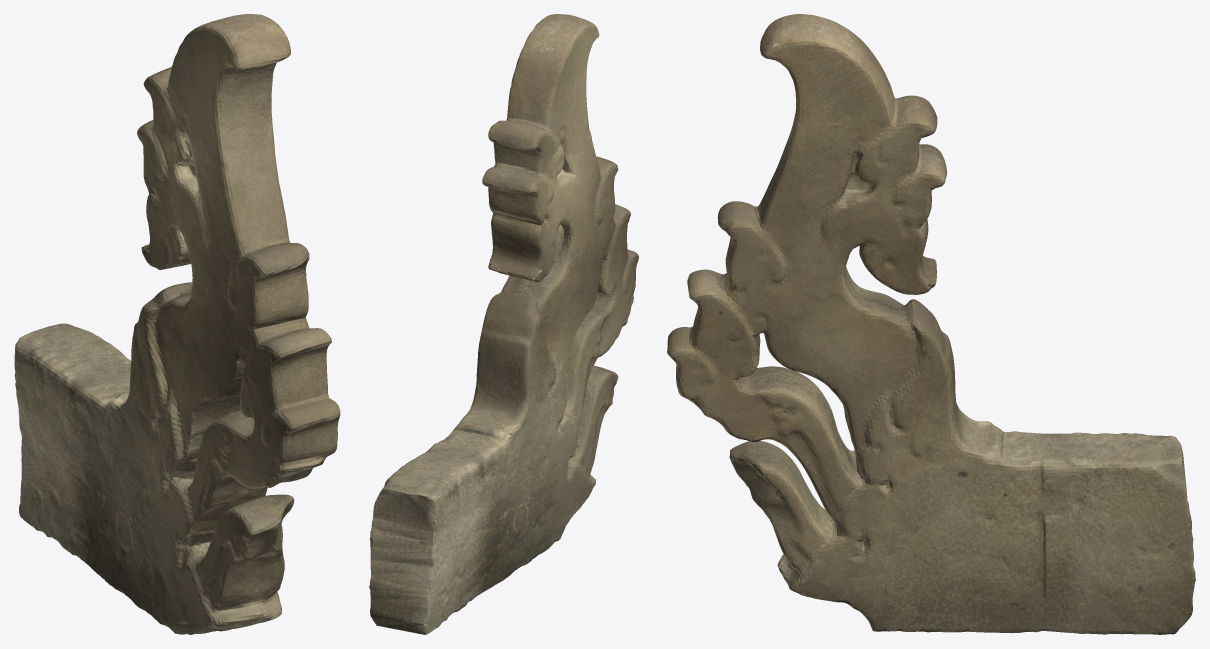
Rendered from 26_vattrangtri_final.glb.
The picture shows the model from 3 angles, left to right: view 1: azimuth 30°, elevation 25°; view 2: azimuth 150°, elevation 25°; view 3: azimuth 270°, elevation 25°; orthographic projection. The views are drawn at different scales.
Bounding box in the file's own units: 0.0956 × 0.7552 × 0.6077.
1 material, 1 textured.
